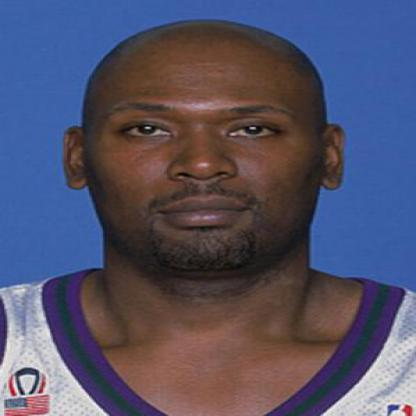face: (85, 22, 329, 275)
